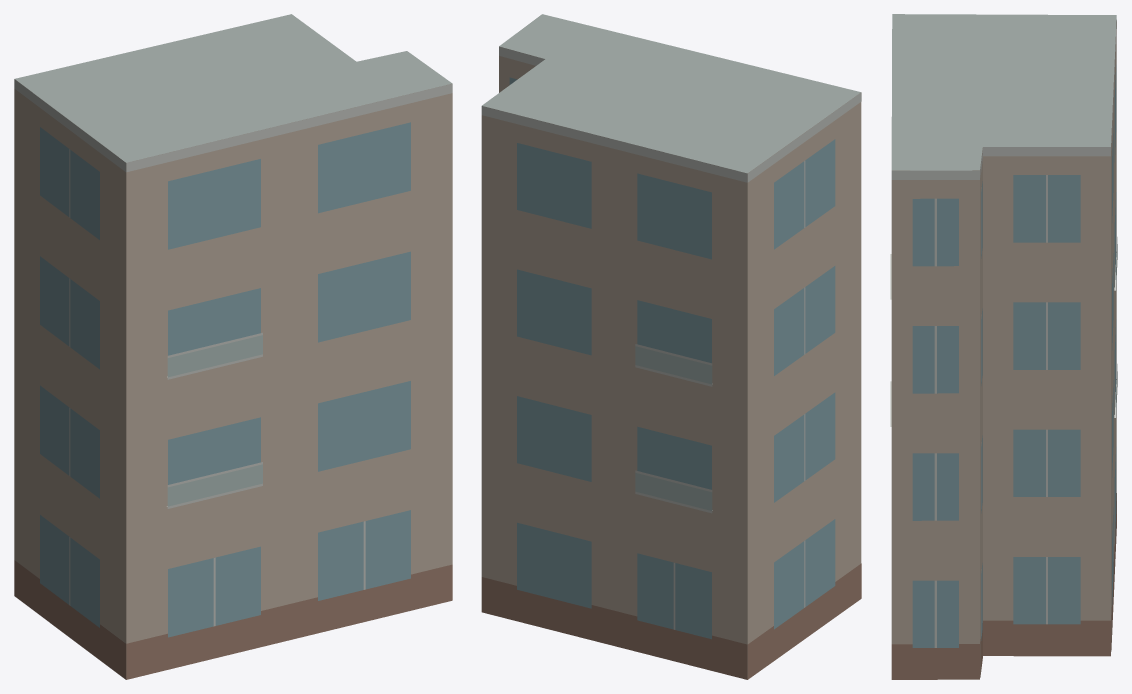
File: survey-upis-32894775.glb
The picture shows the model from 3 angles, left to right: view 1: azimuth 30°, elevation 25°; view 2: azimuth 150°, elevation 25°; view 3: azimuth 270°, elevation 25°; orthographic projection. The views are drawn at different scales.
Visible parts, largest first — view 1: survey-upis-32894775.tmp; view 2: survey-upis-32894775.tmp; view 3: survey-upis-32894775.tmp.
Boxes of the visible parts, x1,y1,x2,y2 form: survey-upis-32894775.tmp: (14, 14, 452, 679); survey-upis-32894775.tmp: (481, 14, 861, 679); survey-upis-32894775.tmp: (890, 14, 1117, 679).
Size of the model in its own units: 8.72 by 13.2 by 5.34.
